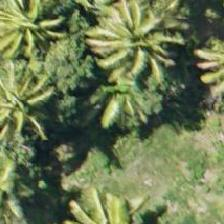coconut_tree: (88, 43, 178, 133), (96, 0, 186, 84), (0, 0, 70, 72), (0, 86, 46, 176)
